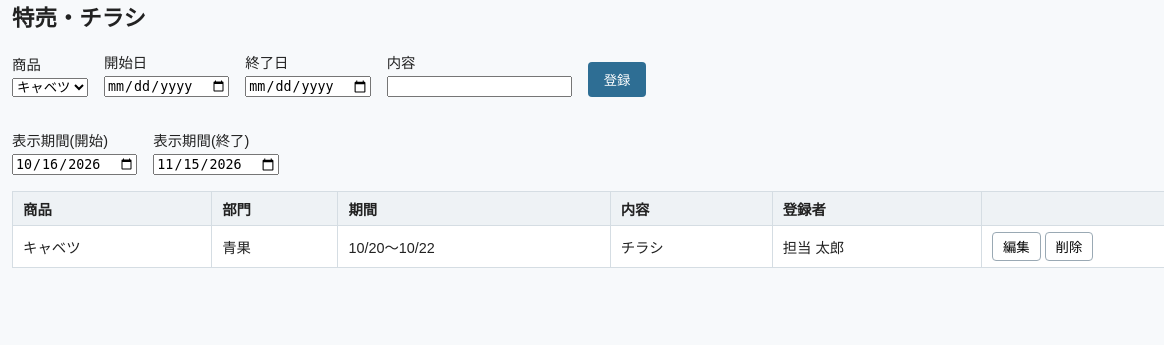
promotion form rejects end before start on client
The image size is (1164, 345).
expect the heading "特売・チラシ" is shown: met, box x1=12 y1=6 x2=146 y2=31
Type "2026-10-22" into the date field labelled "開始日" at coordinates (167, 86), box x1=104 y1=76 x2=229 y2=97
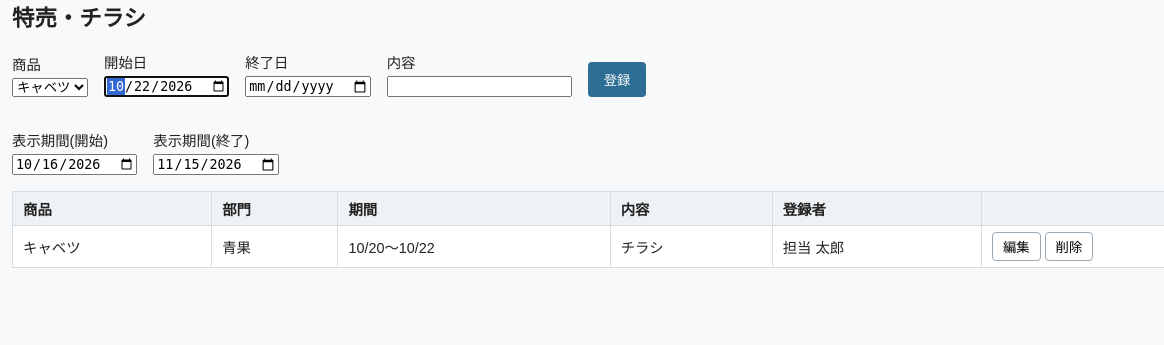
Type "2026-10-20" into the date field labelled "終了日" at coordinates (308, 86), box x1=245 y1=76 x2=371 y2=97
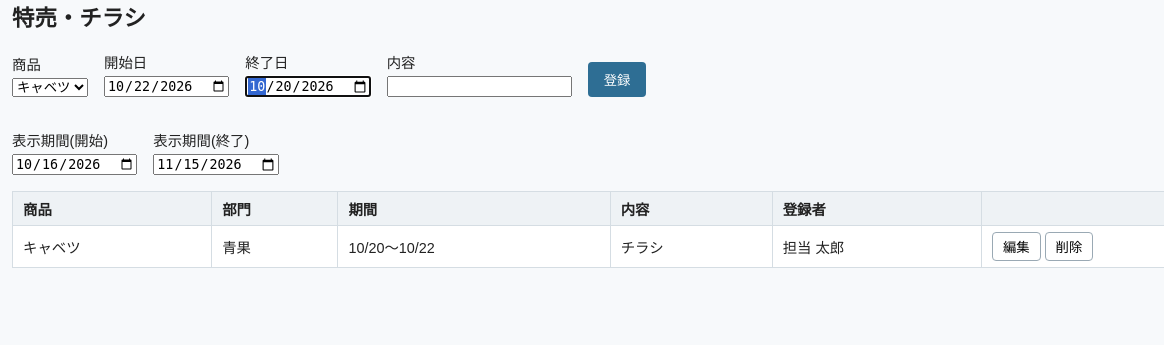
Type "週末セール" into the field labelled "内容" at coordinates (479, 86), box x1=387 y1=76 x2=572 y2=97
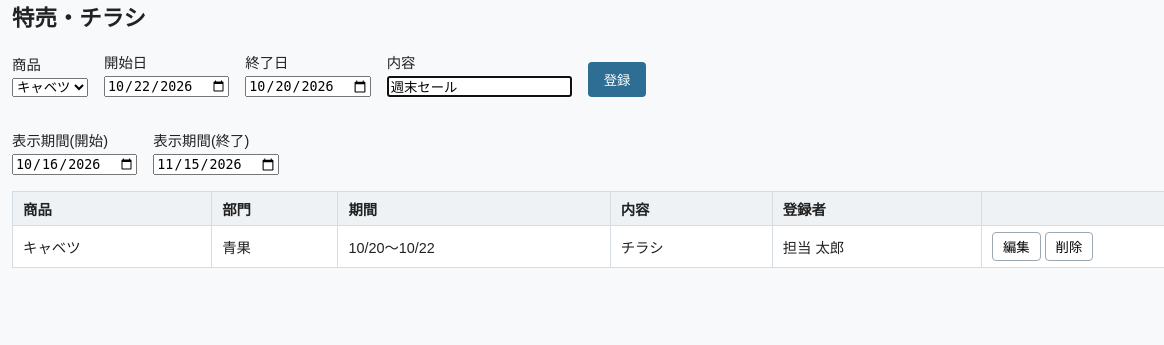
Click the button "登録" at coordinates (617, 79), box x1=588 y1=62 x2=646 y2=97
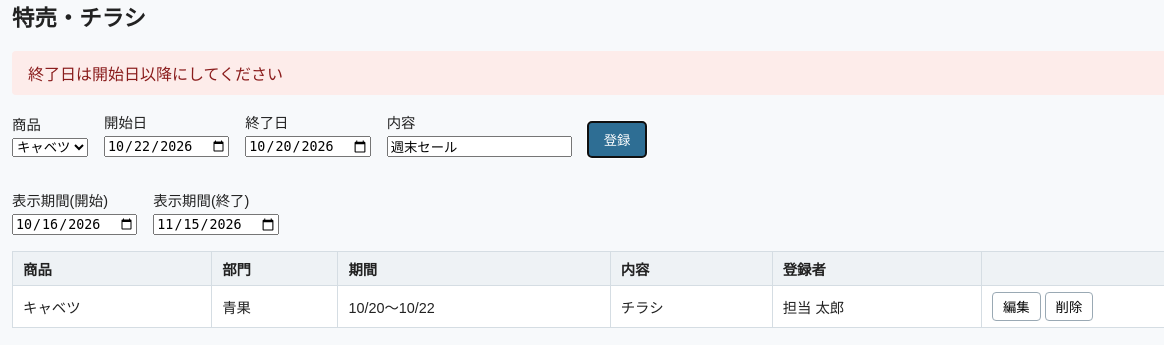
expect the message reads "終了日は開始日以降にしてください": met, box x1=28 y1=66 x2=283 y2=83
